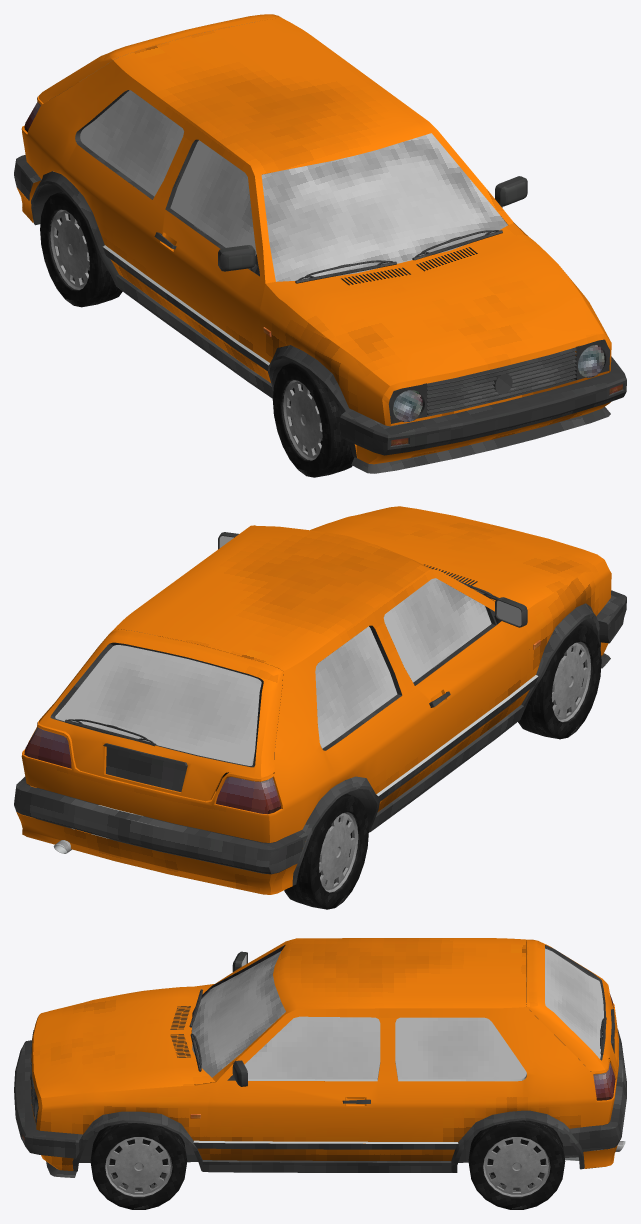
File: volkswagen_golf_ii_opt.glb
The picture shows the model from 3 angles, top to bottom: view 1: azimuth 30°, elevation 25°; view 2: azimuth 150°, elevation 25°; view 3: azimuth 270°, elevation 25°; orthographic projection. The views are drawn at different scales.
Parts seen in each view (by area): view 1: Object_6, Object_9, Object_7, Object_11, Object_10, Object_3, Object_4; view 2: Object_6, Object_9, Object_7, Object_11, Object_10, Object_3, Object_4, Object_5; view 3: Object_6, Object_9, Object_7, Object_11, Object_10, Object_4, Object_3, Object_2.
Boxes of the visible parts, <box> form: Object_6: <box>16,14,611,464</box>; Object_9: <box>80,22,507,281</box>; Object_7: <box>14,90,626,473</box>; Object_11: <box>40,191,354,477</box>; Object_10: <box>50,209,322,460</box>; Object_3: <box>24,102,622,445</box>; Object_4: <box>103,245,269,365</box>; Object_6: <box>16,506,611,894</box>; Object_9: <box>55,578,491,765</box>; Object_7: <box>14,532,626,885</box>; Object_11: <box>284,623,601,909</box>; Object_10: <box>319,641,590,892</box>; Object_3: <box>24,640,540,814</box>; Object_4: <box>42,675,538,853</box>; Object_5: <box>219,536,521,625</box>; Object_6: <box>31,938,618,1170</box>; Object_9: <box>192,948,603,1079</box>; Object_7: <box>14,945,626,1177</box>; Object_11: <box>90,1120,565,1209</box>; Object_10: <box>105,1137,550,1196</box>; Object_4: <box>193,1016,625,1160</box>; Object_3: <box>22,993,615,1140</box>; Object_2: <box>191,942,584,1065</box>.
Size of the model in its own units: 2.94 by 2.13 by 6.25.
Materials: 10 (9 with a texture image).
